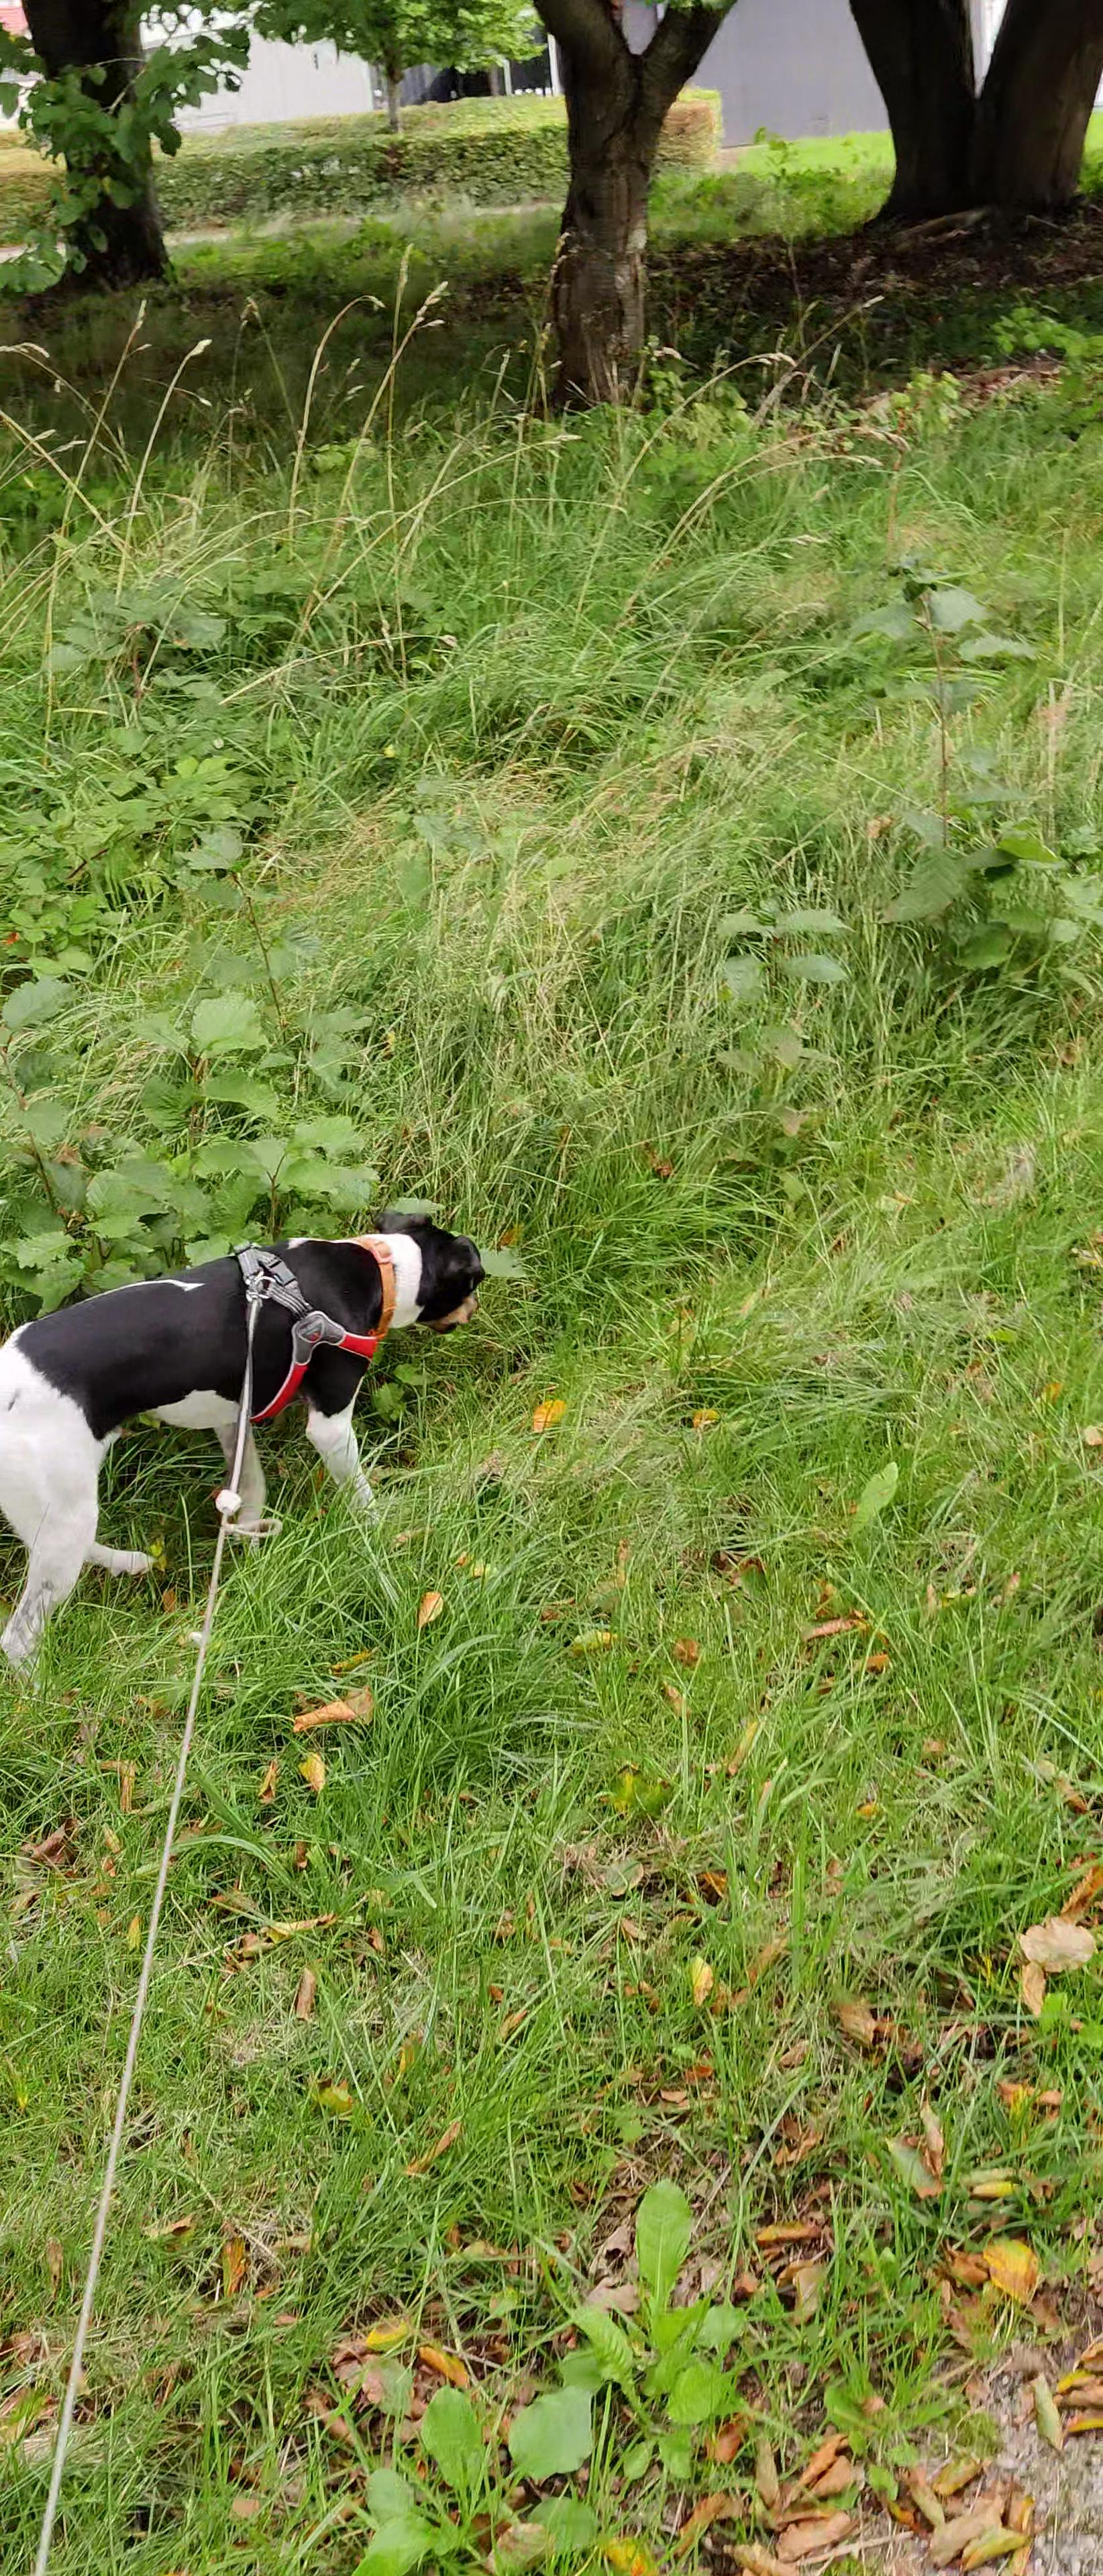Dog: (0, 1199, 488, 1682)
